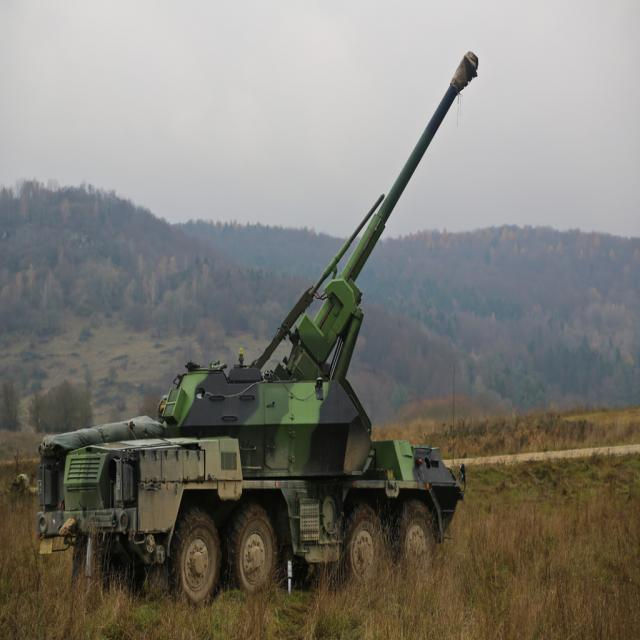tank: (36, 52, 478, 610)
